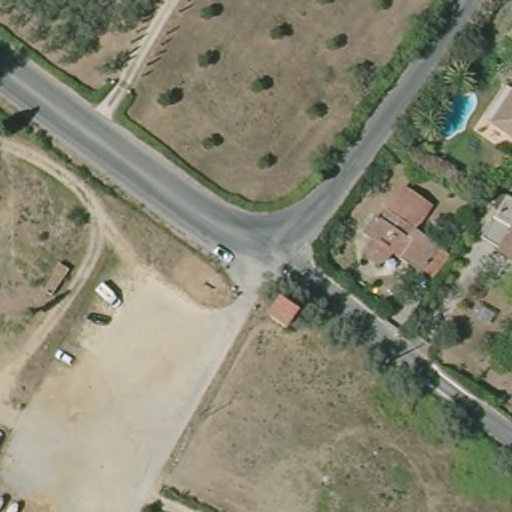pool: (433, 81, 482, 142)
